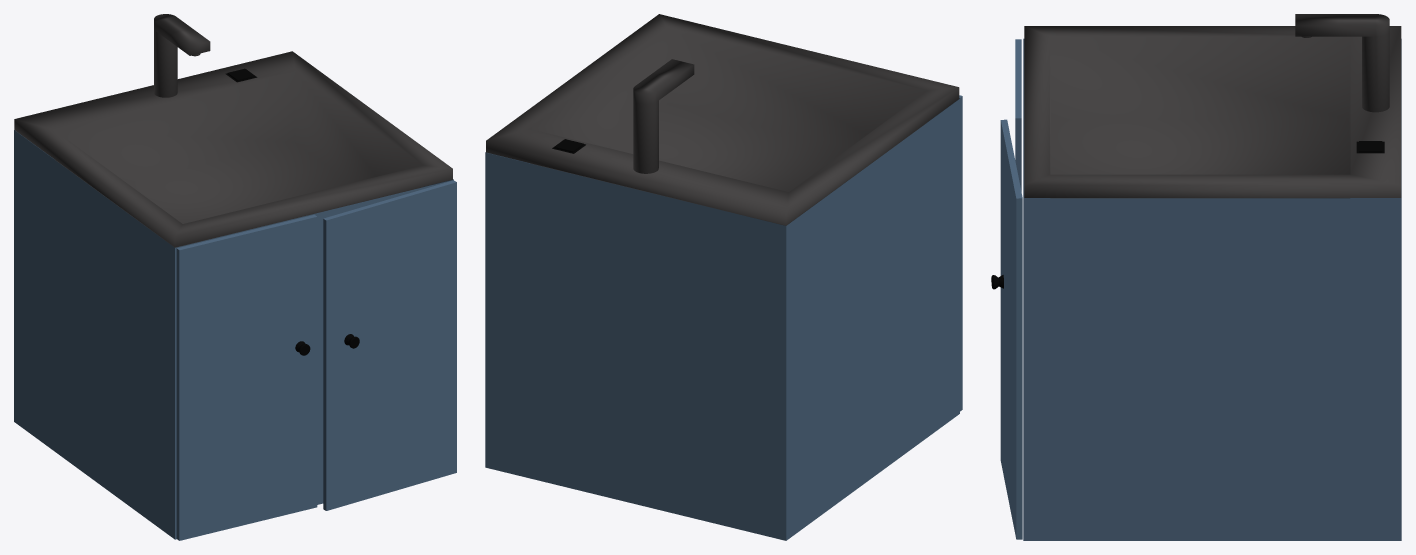
The model's file is rakovina.fbx.
3 renders of one model, left to right at view 1: azimuth 30°, elevation 25°; view 2: azimuth 150°, elevation 25°; view 3: azimuth 270°, elevation 25°, orthographic. The views are drawn at different scales.
Visible parts, largest first — view 1: Cube.005, stolesniza.005, DOOR.010, DOOR.011, Cylinder.016; view 2: Cube.005, stolesniza.005, Cylinder.016, DOOR.010; view 3: Cube.005, stolesniza.005, DOOR.011, Cylinder.016, DOOR.010.
Part boxes in pixels (x1,y1,x2,y2): Cube.005: (14, 130, 453, 539); stolesniza.005: (14, 51, 452, 247); DOOR.010: (176, 214, 317, 540); DOOR.011: (323, 180, 456, 510); Cylinder.016: (154, 14, 210, 97); Cube.005: (485, 98, 959, 540); stolesniza.005: (486, 14, 959, 225); Cylinder.016: (633, 59, 694, 173); DOOR.010: (959, 95, 962, 411); Cube.005: (1023, 38, 1401, 540); stolesniza.005: (1024, 26, 1401, 198); DOOR.011: (1000, 119, 1022, 539); Cylinder.016: (1295, 14, 1389, 112); DOOR.010: (1015, 39, 1021, 191).
Size of the model in its own units: 2717 by 3504 by 2947.
